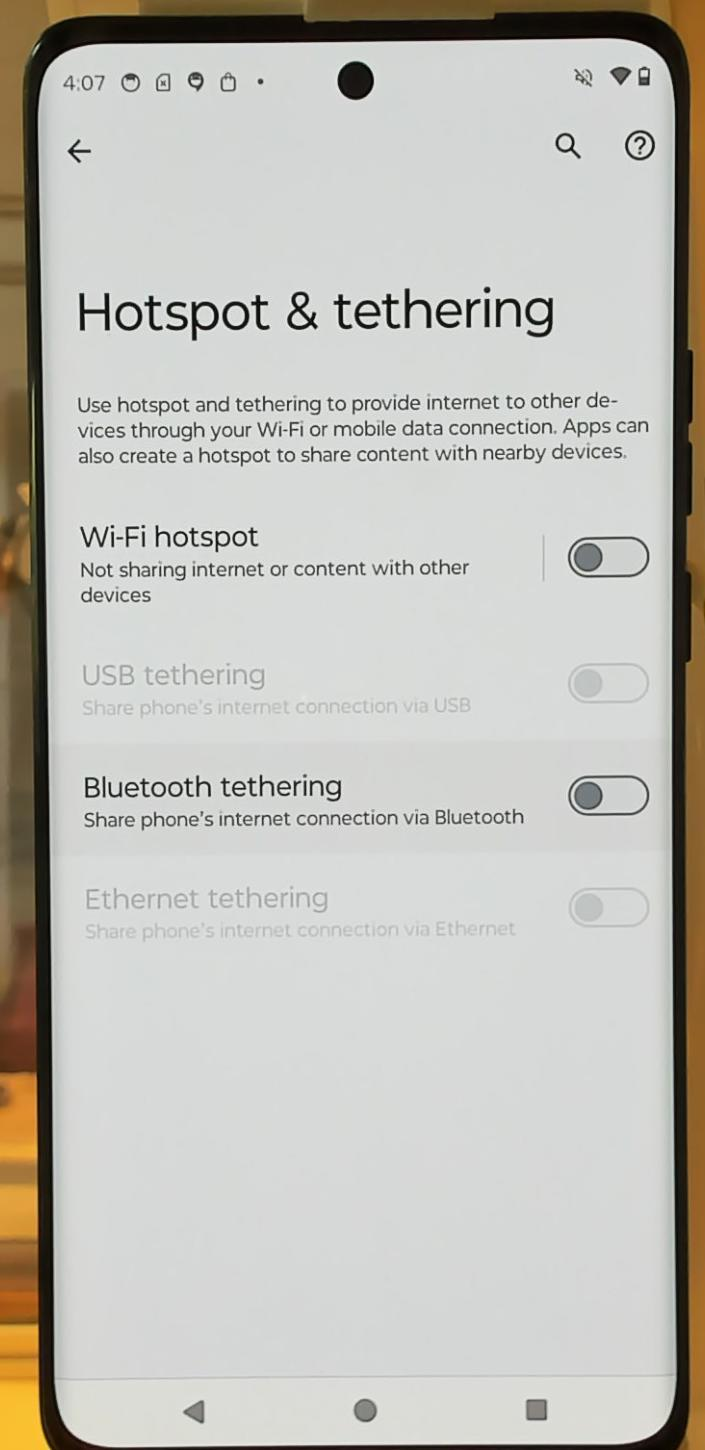Checkbox: (60, 495, 661, 621)
